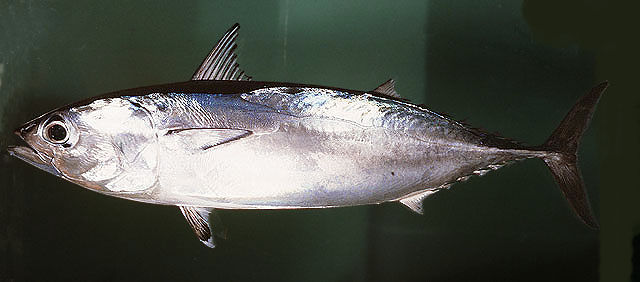fish: (11, 25, 610, 252)
